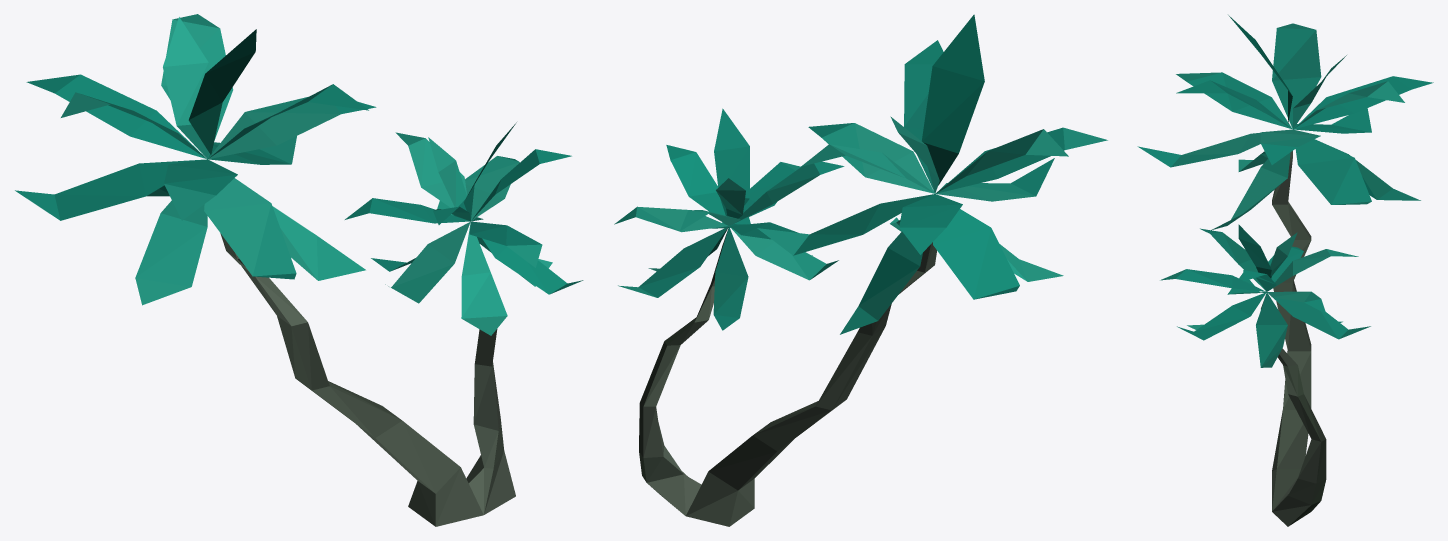
Rendered from pwant.fbx.
3 views of the same model, side by side, from view 1: azimuth 30°, elevation 25°; view 2: azimuth 150°, elevation 25°; view 3: azimuth 270°, elevation 25° (orthographic). The views are drawn at different scales.
Visible parts, largest first — view 1: Object Plant 2024-03-15_19-01-20; view 2: Object Plant 2024-03-15_19-01-20; view 3: Object Plant 2024-03-15_19-01-20.
Boxes of the visible parts, x1,y1,x2,y2 form: Object Plant 2024-03-15_19-01-20: [15, 14, 583, 526]; Object Plant 2024-03-15_19-01-20: [614, 14, 1107, 526]; Object Plant 2024-03-15_19-01-20: [1137, 15, 1433, 526].
Size of the model in its own units: 31800 by 36400 by 24000.
